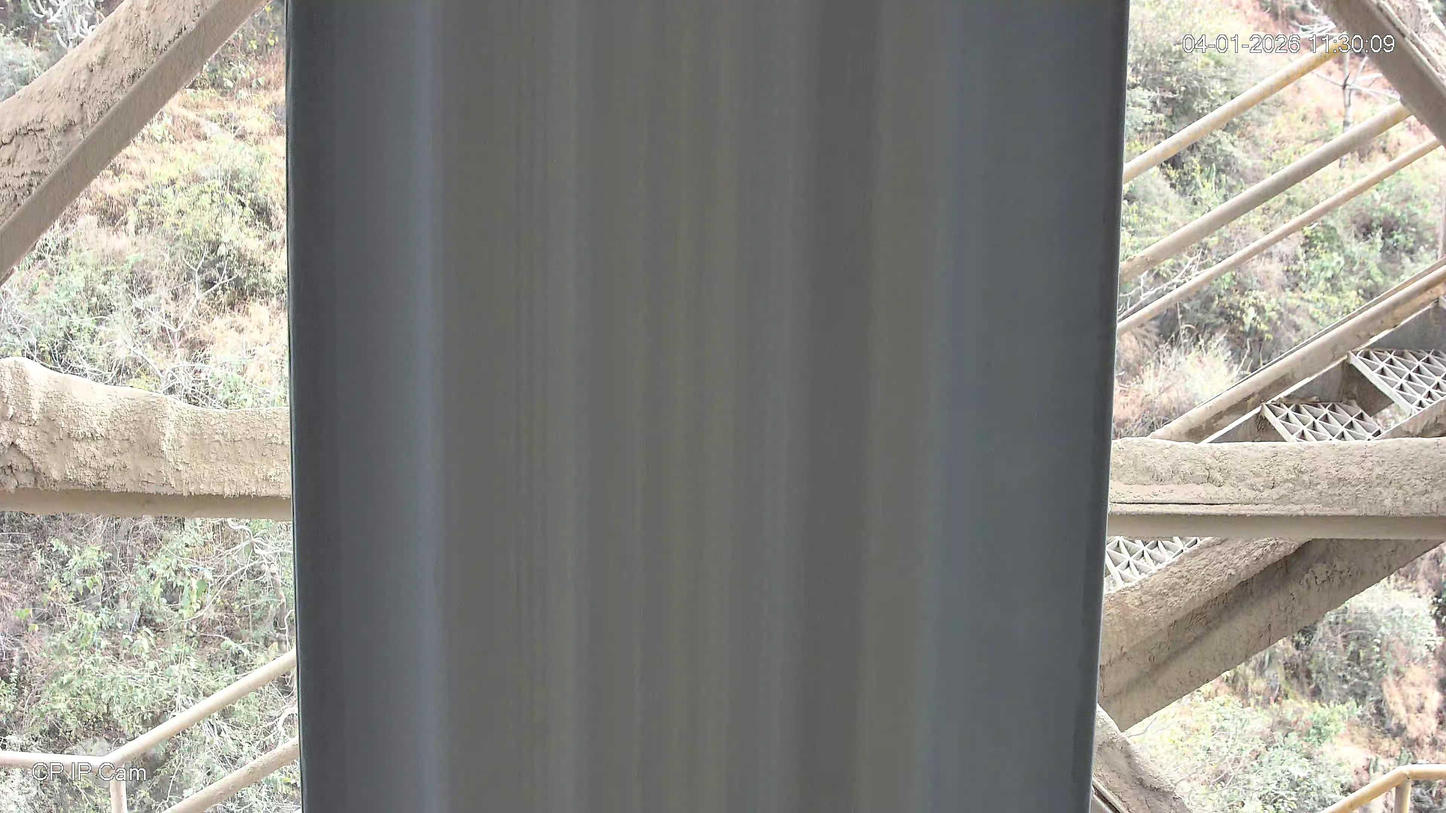belt_roi: (285, 0, 1130, 813)
